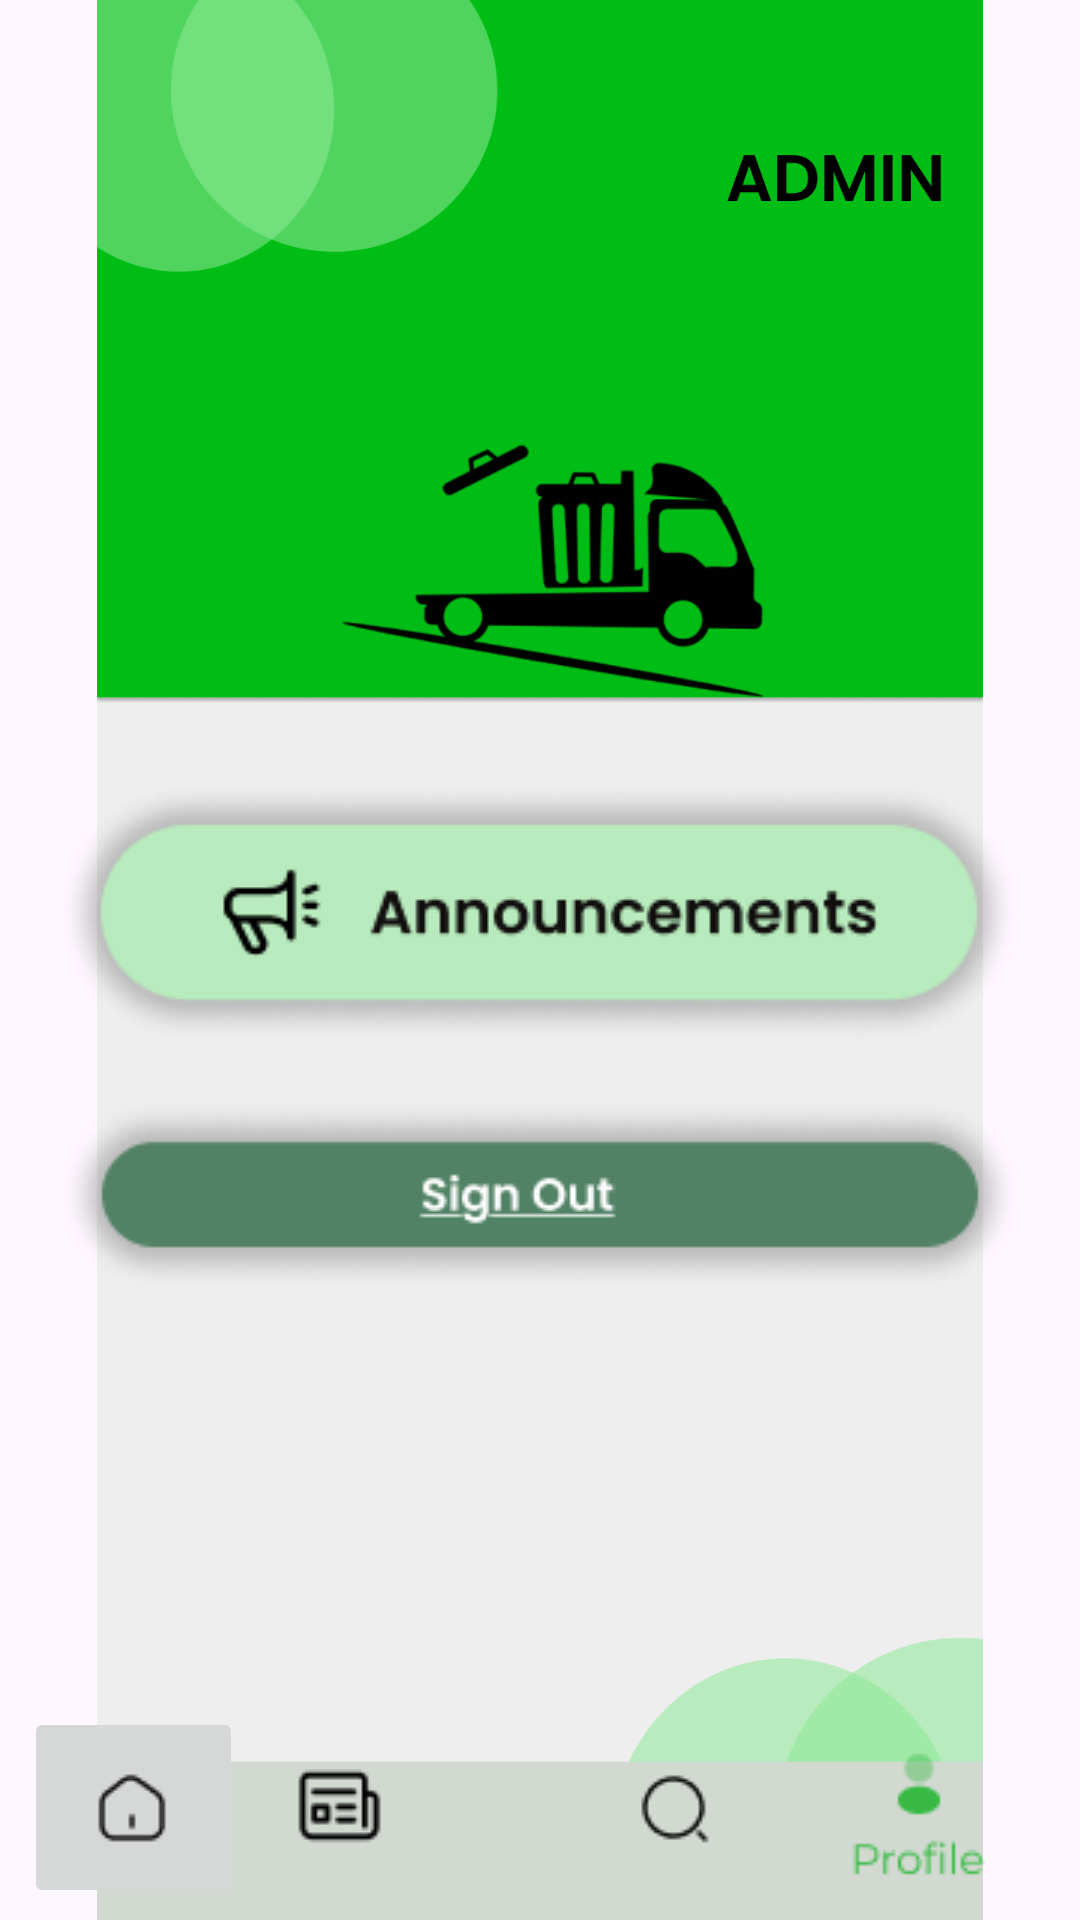

Point at icon controls on the screen. Image size 1080px×1920px, points as [x,y].
bulletin: [339,1773]
home: [139,1816]
search: [673,1776]
